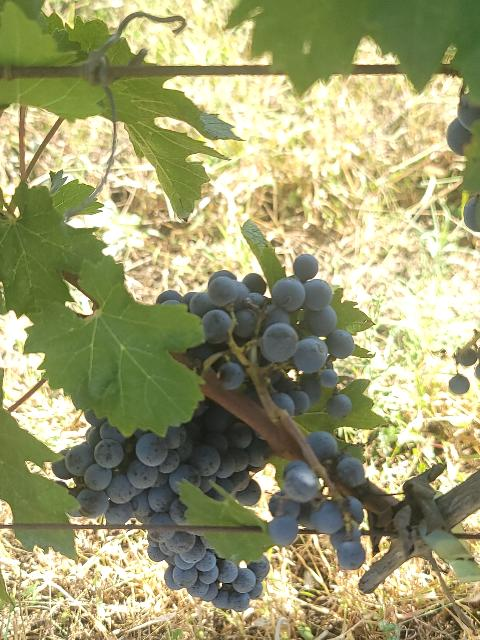grapes: (181, 255, 355, 415), (51, 400, 271, 526), (269, 460, 366, 570), (148, 529, 269, 611)
